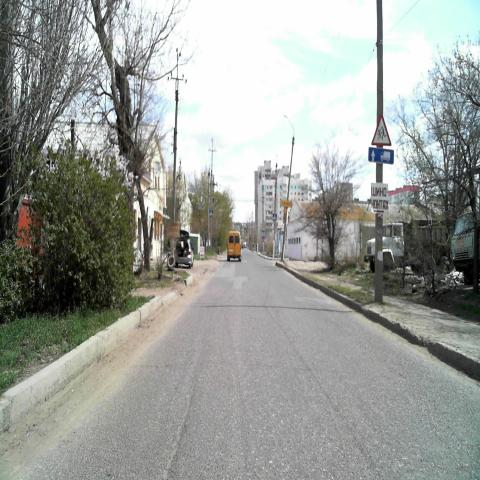6_15_1: (366, 145, 394, 164)
